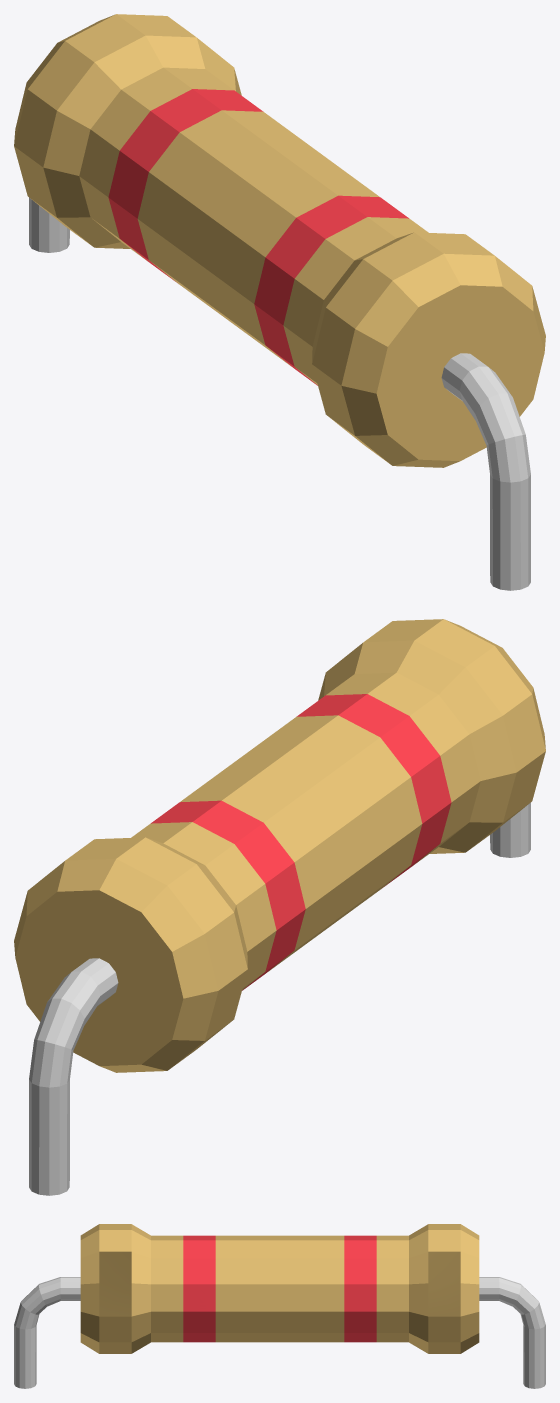
The model's file is resistor.fbx.
The picture shows the model from 3 angles, top to bottom: view 1: azimuth 30°, elevation 25°; view 2: azimuth 150°, elevation 25°; view 3: azimuth 270°, elevation 25°; orthographic projection. The views are drawn at different scales.
Parts seen in each view (by area): view 1: Cylinder; view 2: Cylinder; view 3: Cylinder.
Part boxes in pixels (x1,y1,x2,y2): Cylinder: (14,14,545,590); Cylinder: (14,619,545,1195); Cylinder: (14,1224,545,1388).
Bounding box in the file's own units: 124 × 162 × 506.
